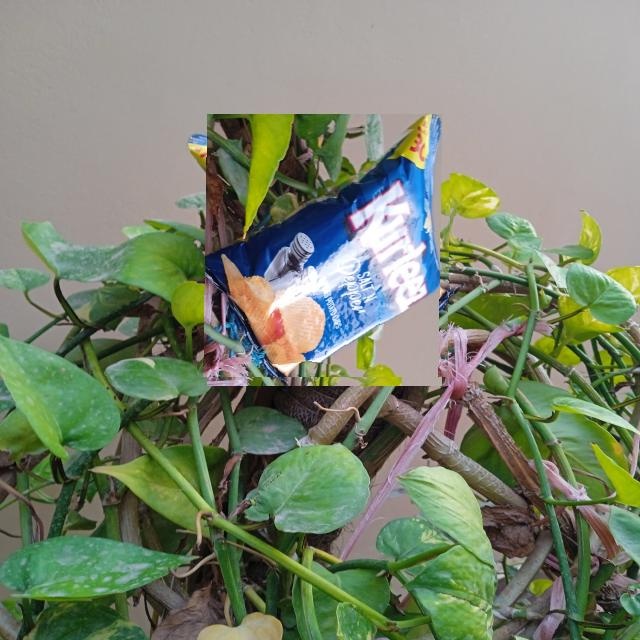Plastic: (197, 123, 451, 377)
